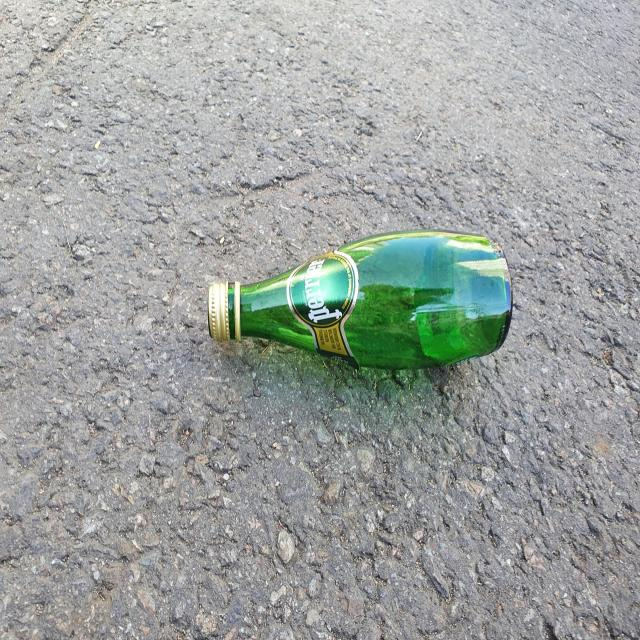glass: (207, 231, 513, 368)
